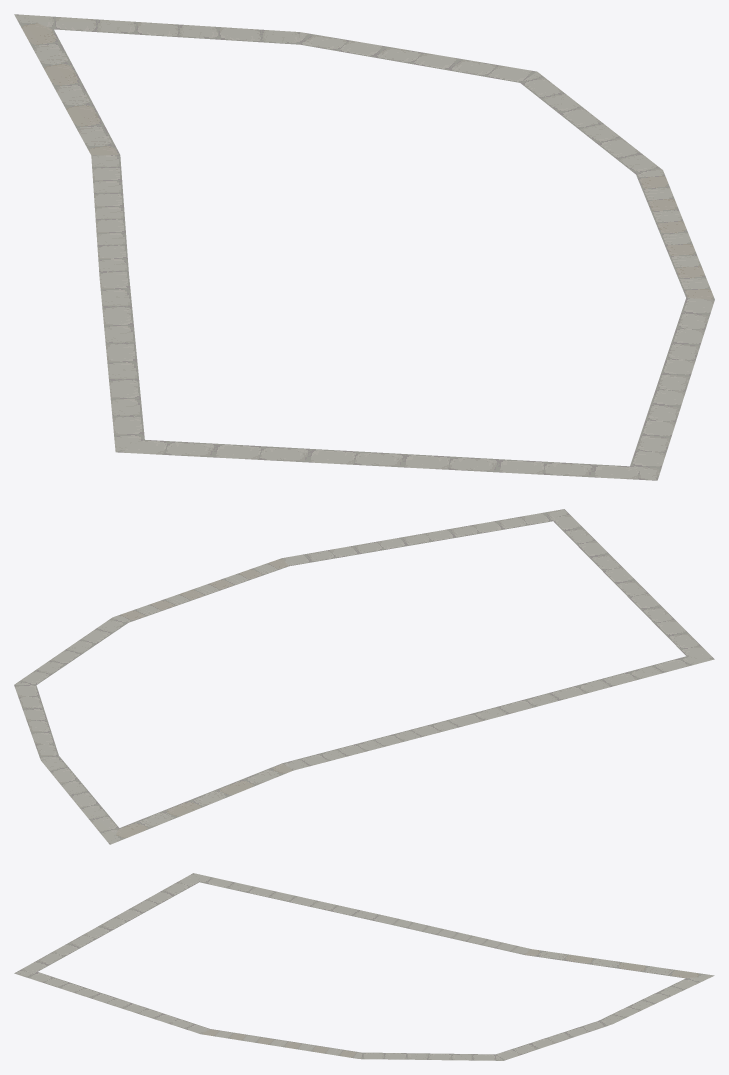
The model's file is kd_stage_13612f_4_51.glb.
The picture shows the model from 3 angles, top to bottom: view 1: azimuth 30°, elevation 25°; view 2: azimuth 150°, elevation 25°; view 3: azimuth 270°, elevation 25°; orthographic projection. The views are drawn at different scales.
Parts seen in each view (by area): view 1: kd_stage_13612f_4_51; view 2: kd_stage_13612f_4_51; view 3: kd_stage_13612f_4_51.
Boxes of the visible parts, left/top/right/bottom form: kd_stage_13612f_4_51: left=14, top=14, right=714, bottom=480; kd_stage_13612f_4_51: left=14, top=509, right=714, bottom=844; kd_stage_13612f_4_51: left=14, top=873, right=714, bottom=1060.
Size of the model in its own units: 10.72 by 0.0601 by 16.9.
Materials: 1 (1 with a texture image).
